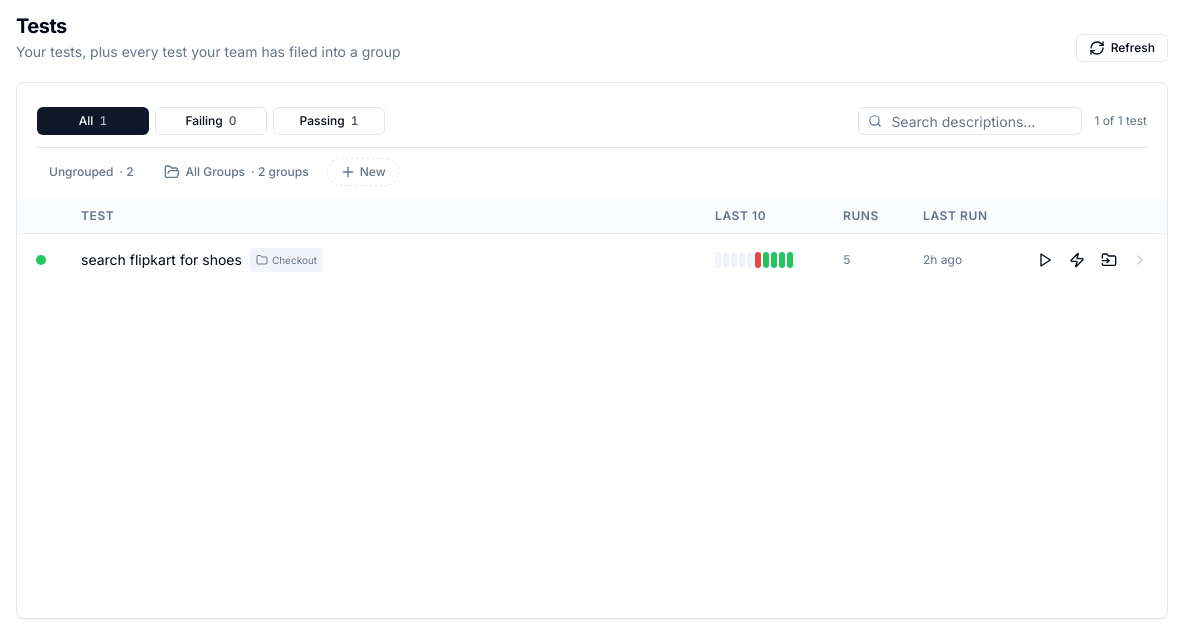
Test: TestsPage — the empty state › does not greet a search with no matches as a brand-new user
The image size is (1185, 636).
expect the button "search flipkart for shoes" is shown: met, box 81,250 -> 242,270
Type "zzz" into the field named "Search tests" at (970, 121), box 858,107 -> 1082,135
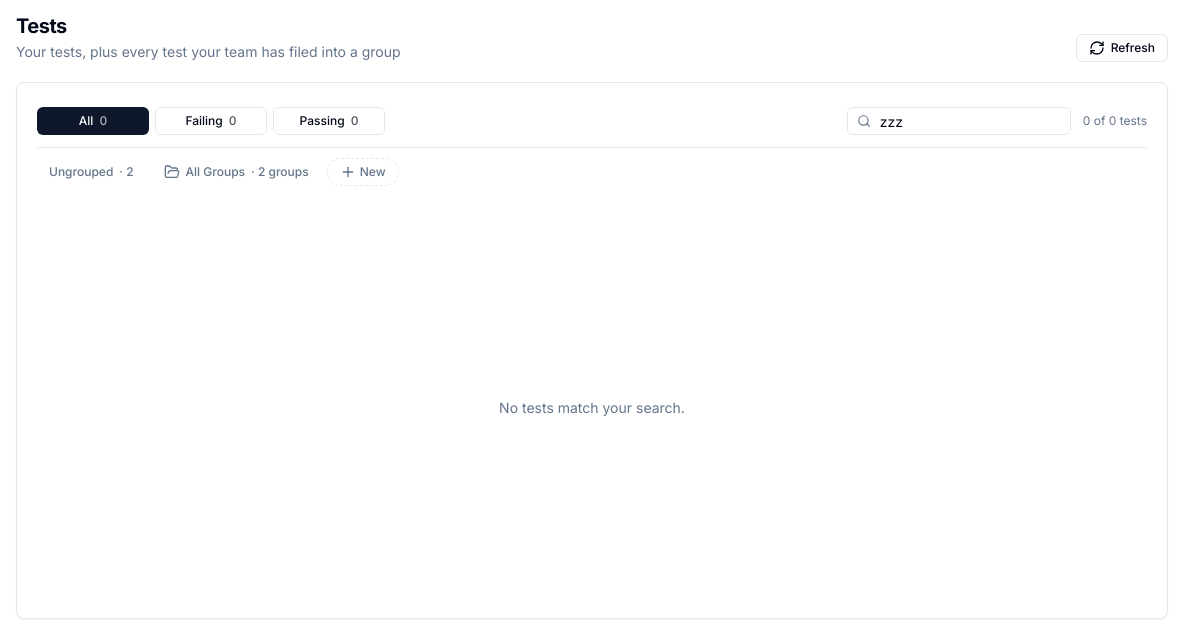
expect the text "No tests match your search." is shown: met, box 499,399 -> 685,416
